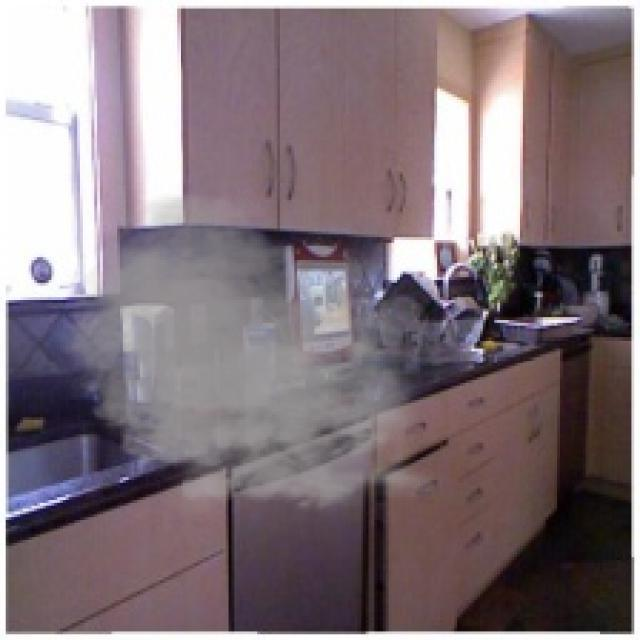Smoke: (42, 183, 452, 526)
